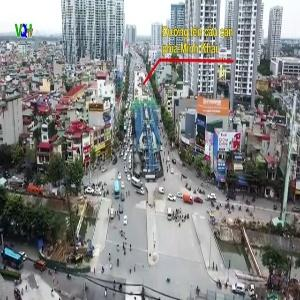drone: (14, 88, 56, 130)
